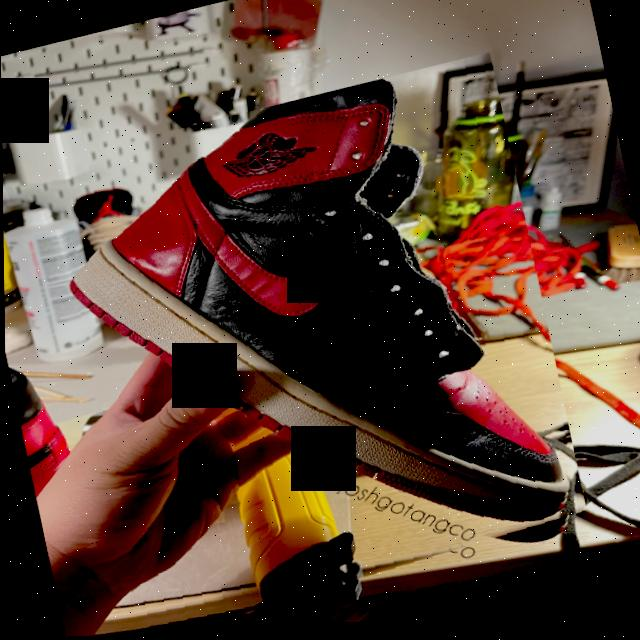shoe: (36, 53, 590, 639)
